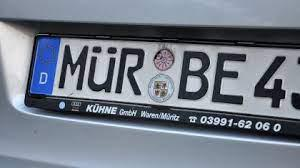4: (253, 54, 287, 110)
B: (176, 49, 211, 103)
E: (211, 51, 247, 106)
M: (58, 43, 88, 93)
R: (115, 46, 145, 96)
ue: (87, 44, 117, 94)
